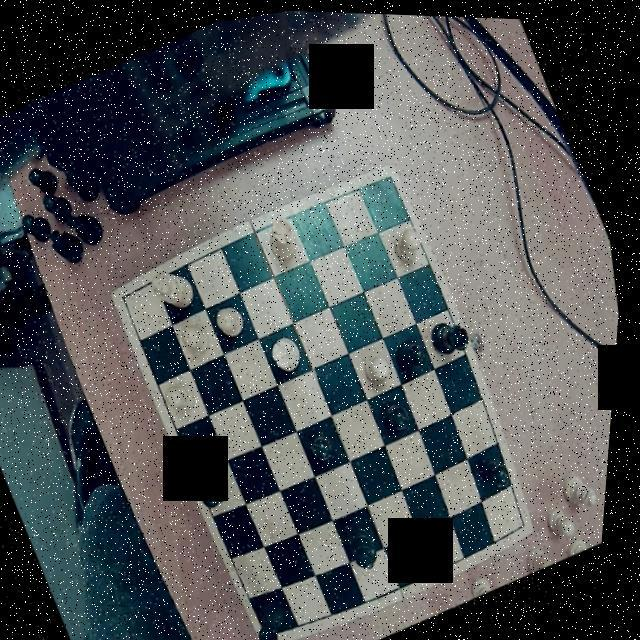chess-table-corners: (374, 162, 408, 196), (114, 280, 148, 312), (514, 509, 543, 539), (262, 614, 290, 640)
